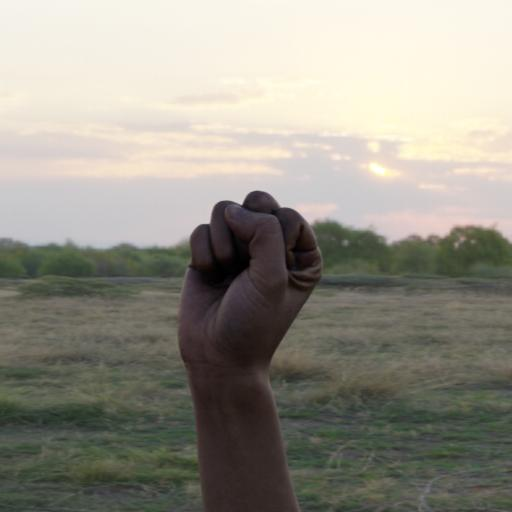S: (159, 157, 380, 419)
